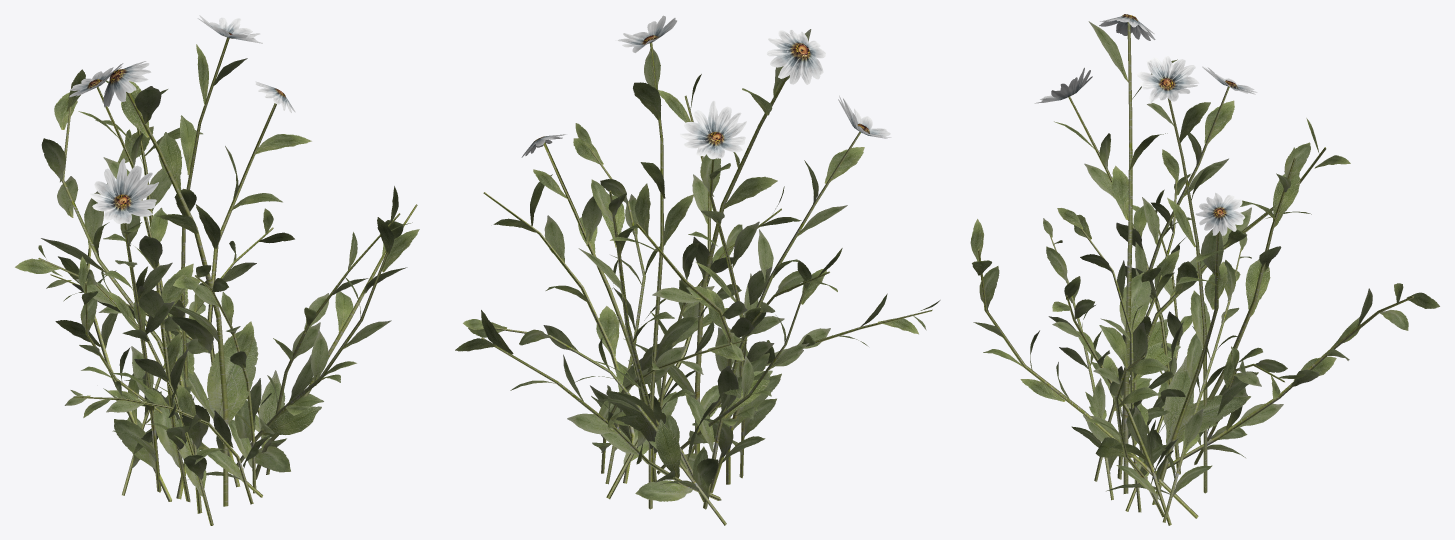
File: sm_DaisyFlowers_01_03.fbx
The picture shows the model from 3 angles, left to right: view 1: azimuth 30°, elevation 25°; view 2: azimuth 150°, elevation 25°; view 3: azimuth 270°, elevation 25°; orthographic projection. The views are drawn at different scales.
Parts seen in each view (by area): view 1: sm_DaisyFlowers_01_03; view 2: sm_DaisyFlowers_01_03; view 3: sm_DaisyFlowers_01_03.
Boxes of the visible parts, <box> form: sm_DaisyFlowers_01_03: <box>15,15,419,525</box>; sm_DaisyFlowers_01_03: <box>455,15,940,525</box>; sm_DaisyFlowers_01_03: <box>970,14,1439,525</box>.
Size of the model in its own units: 36.33 by 39.33 by 40.87.
